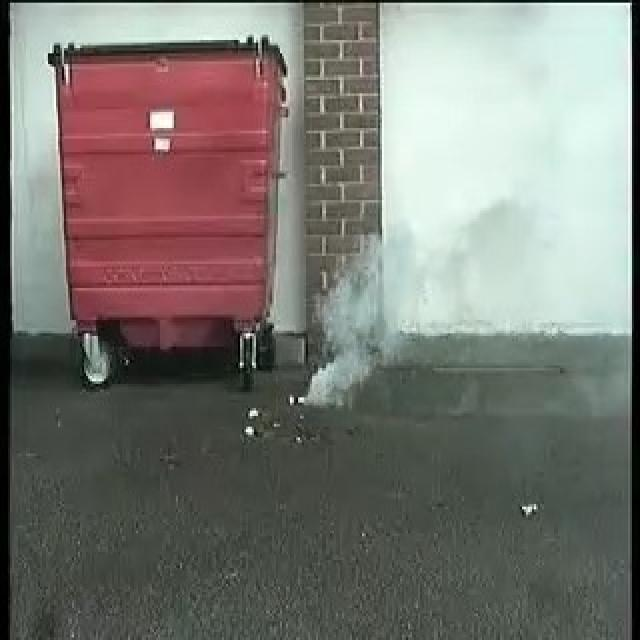Smoke: (304, 252, 406, 410)
